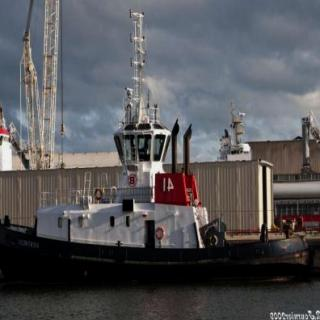Tug Boat: (0, 0, 320, 280)
